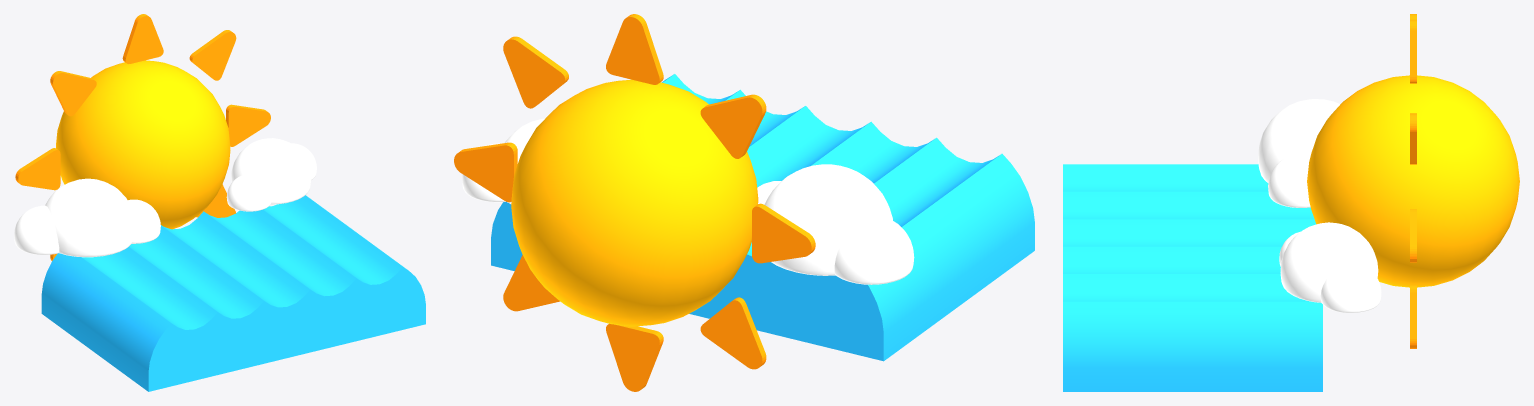
File: sunrise.gltf
3 renders of one model, left to right at view 1: azimuth 30°, elevation 25°; view 2: azimuth 150°, elevation 25°; view 3: azimuth 270°, elevation 25°, orthographic. The views are drawn at different scales.
Visible parts, largest first — view 1: Cube.528; view 2: Cube.528; view 3: Cube.528.
Boxes of the visible parts, bbox=[...] form: Cube.528: bbox=[14, 14, 425, 391]; Cube.528: bbox=[454, 14, 1034, 391]; Cube.528: bbox=[1063, 14, 1519, 391].
Size of the model in its own units: 2.19 by 1.82 by 2.34.
1 material, 1 textured.
